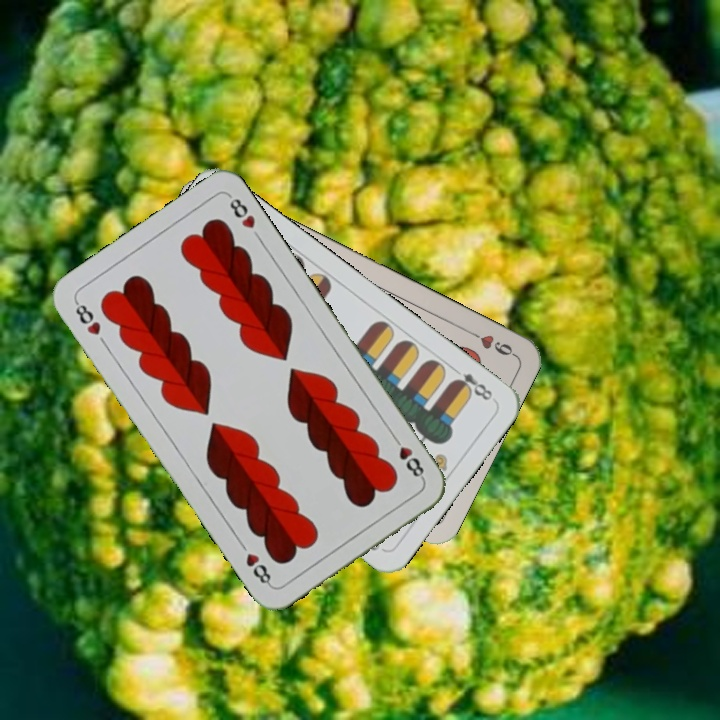E8: (447, 362, 495, 404)
H8: (388, 431, 427, 483), (70, 297, 104, 338)
H9: (463, 326, 518, 359)
